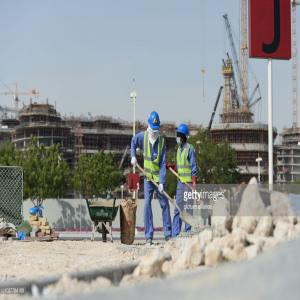blue: (176, 124, 191, 147), (149, 113, 161, 136)
